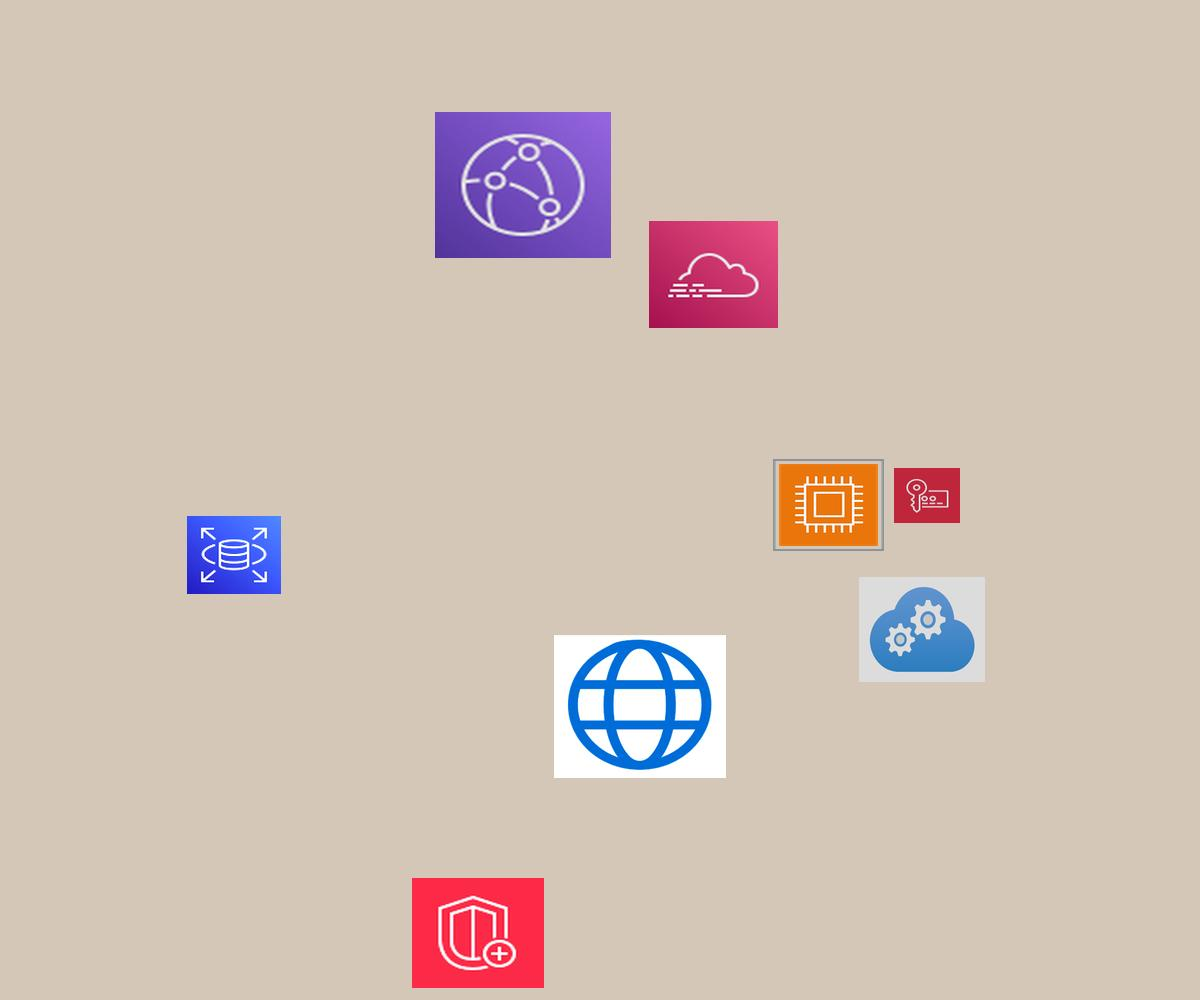AWS-Category_Compute: (773, 459, 884, 551)
AWS-CloudFront: (435, 112, 611, 258)
AWS-CloudTrail: (649, 221, 778, 328)
AWS-Key-Management-Service: (894, 468, 960, 523)
AWS-RDS: (187, 516, 281, 594)
AWS-Shield: (412, 878, 544, 988)
Azure_cloud_services: (859, 577, 985, 682)
Azure_http: (554, 635, 726, 778)
